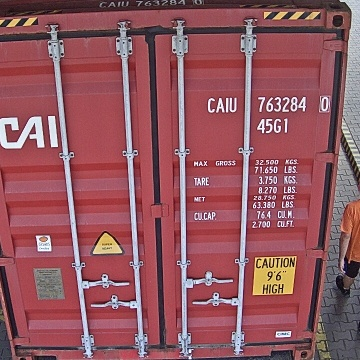serial_id: (208, 95, 331, 112)
